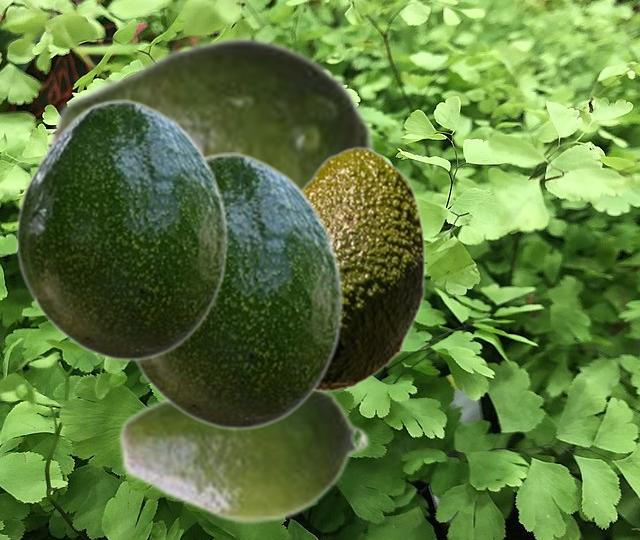avocado: (132, 152, 342, 430), (15, 99, 227, 361), (46, 34, 376, 186), (116, 393, 370, 525), (302, 146, 424, 392)
